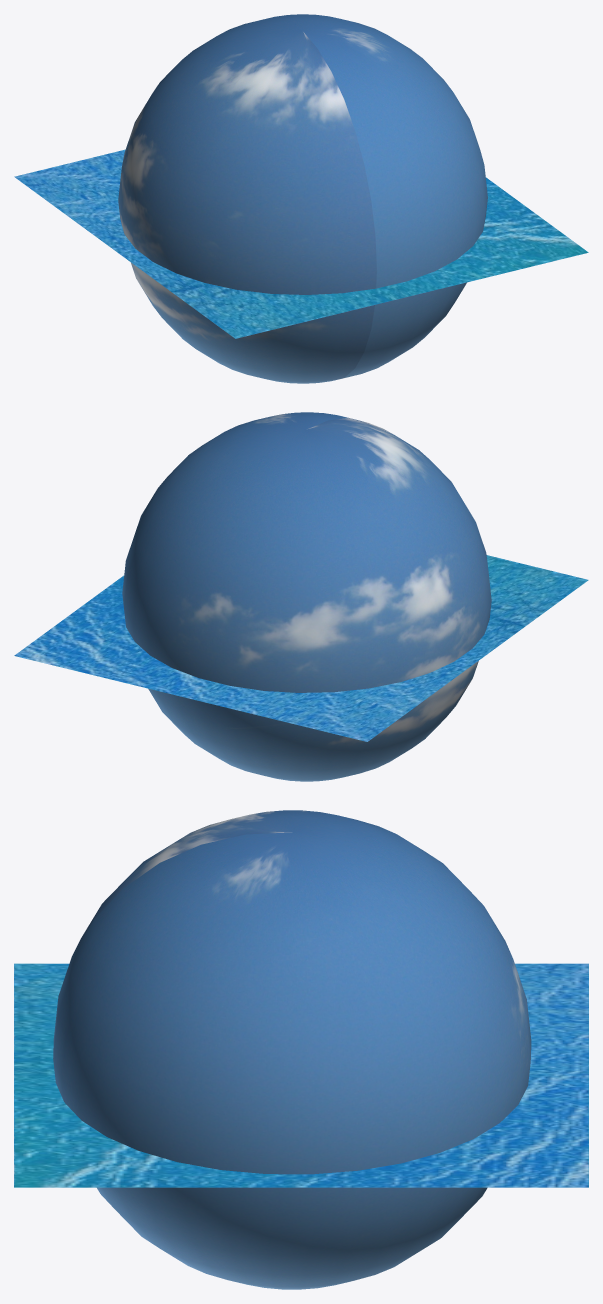
File: Island.FBX
The picture shows the model from 3 angles, top to bottom: view 1: azimuth 30°, elevation 25°; view 2: azimuth 150°, elevation 25°; view 3: azimuth 270°, elevation 25°; orthographic projection. The views are drawn at different scales.
Parts seen in each view (by area): view 1: Sky, Water; view 2: Sky, Water; view 3: Sky, Water.
Boxes of the visible parts, left/top/right/bottom form: Sky: left=118, top=14, right=487, bottom=383; Water: left=14, top=149, right=588, bottom=338; Sky: left=122, top=412, right=491, bottom=781; Water: left=14, top=555, right=588, bottom=741; Sky: left=53, top=810, right=531, bottom=1289; Water: left=14, top=963, right=588, bottom=1187.
Size of the model in its own units: 3833 by 3473 by 4161.
